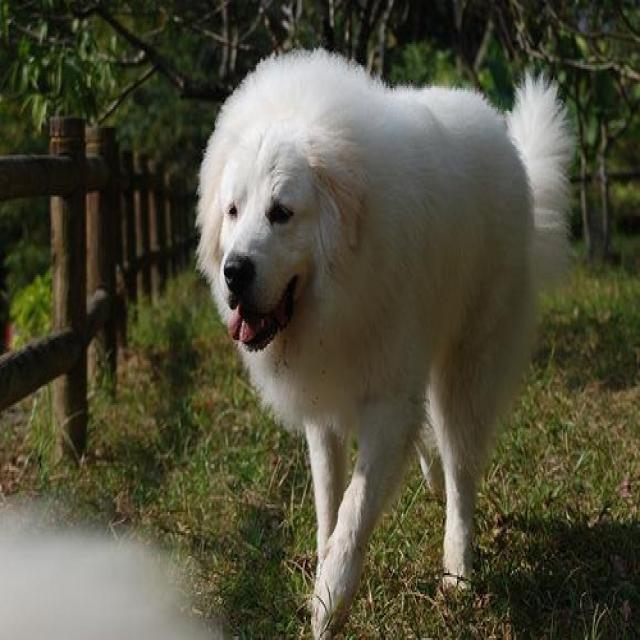dog-great_pyrenees: (191, 32, 580, 636)
